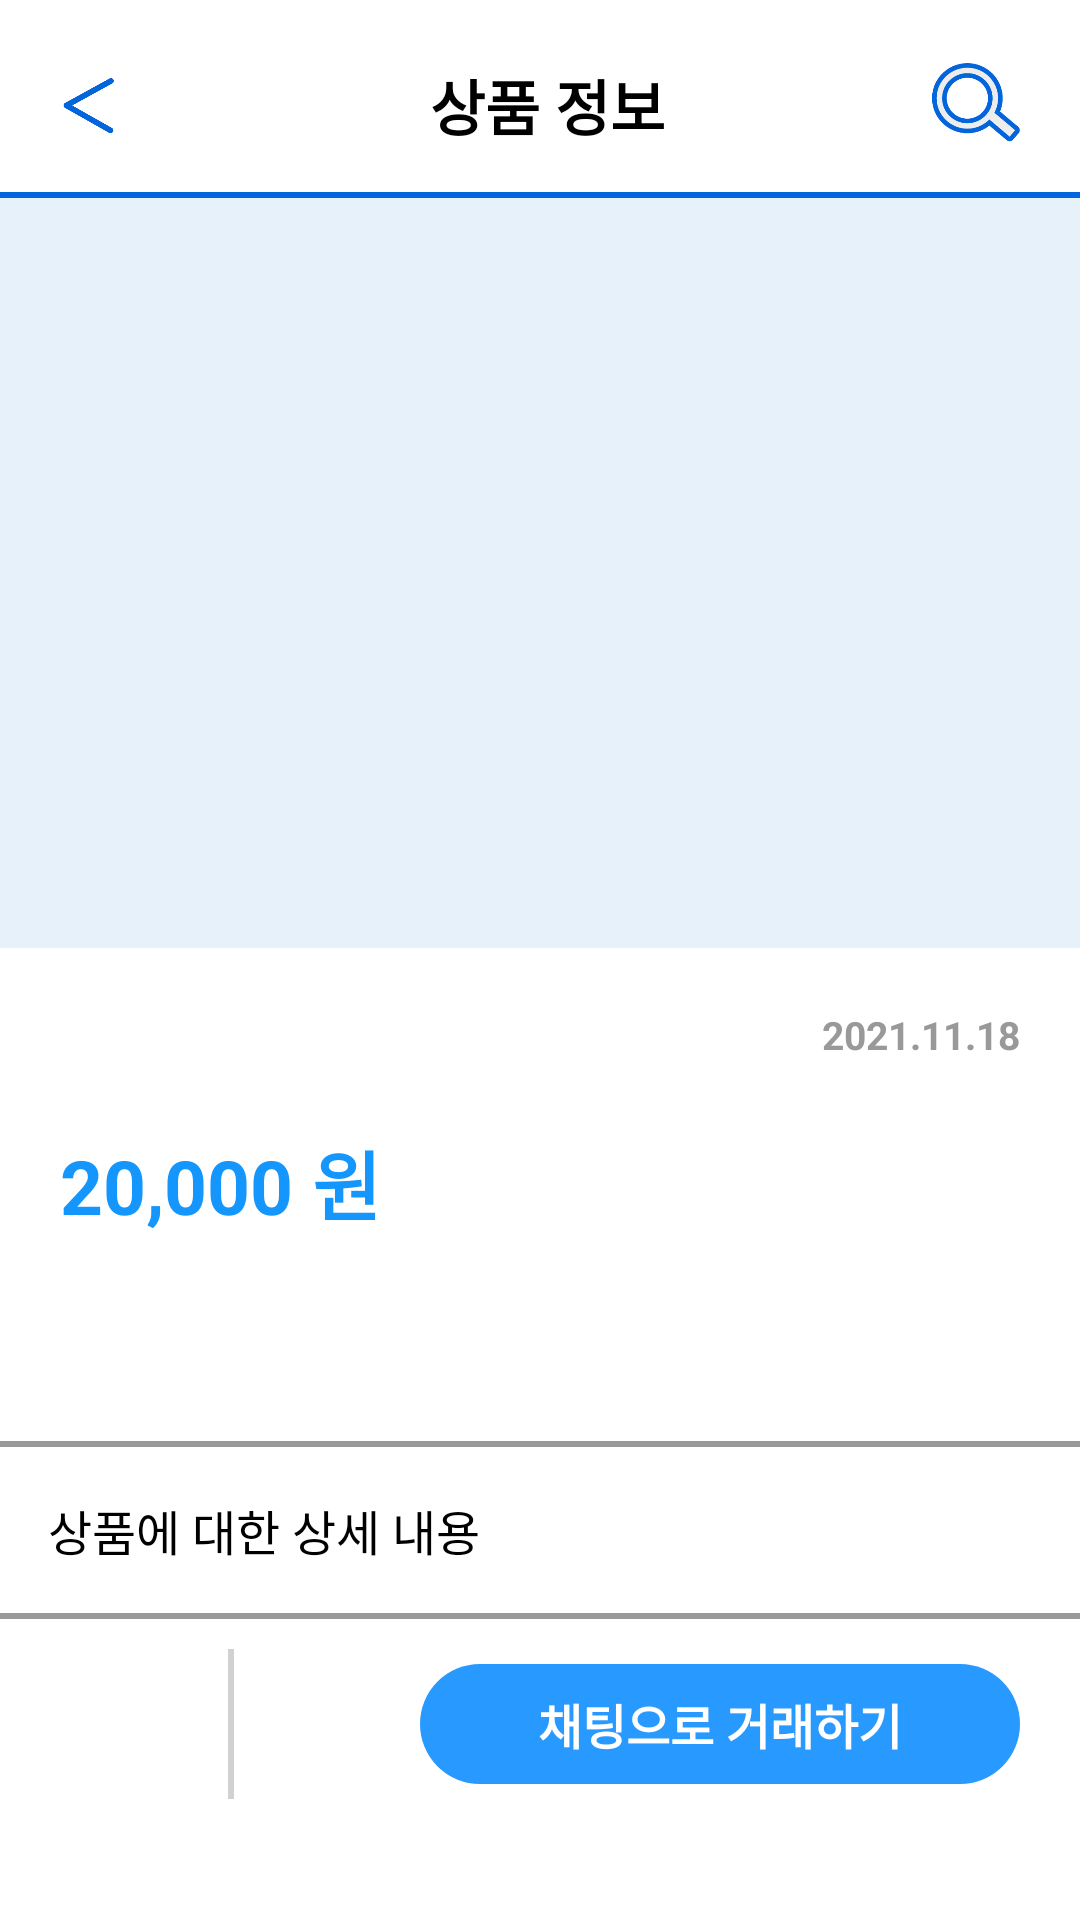

Point at icon controls on the screen. Image size 1080 x 1920, points as [x,y].
left: [88,105]
search: [976,102]
